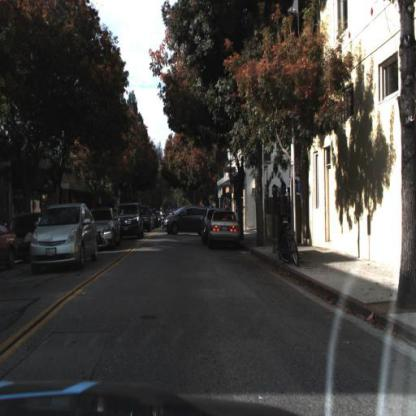car: (26, 201, 101, 276), (205, 209, 243, 251), (162, 202, 203, 238), (92, 205, 121, 252), (115, 199, 144, 245), (1, 215, 17, 268), (201, 206, 215, 242)
